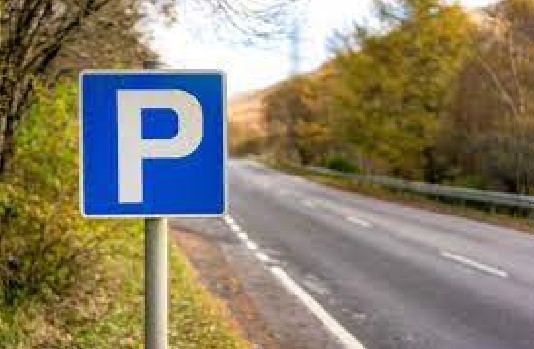Parking: (76, 66, 231, 221)
